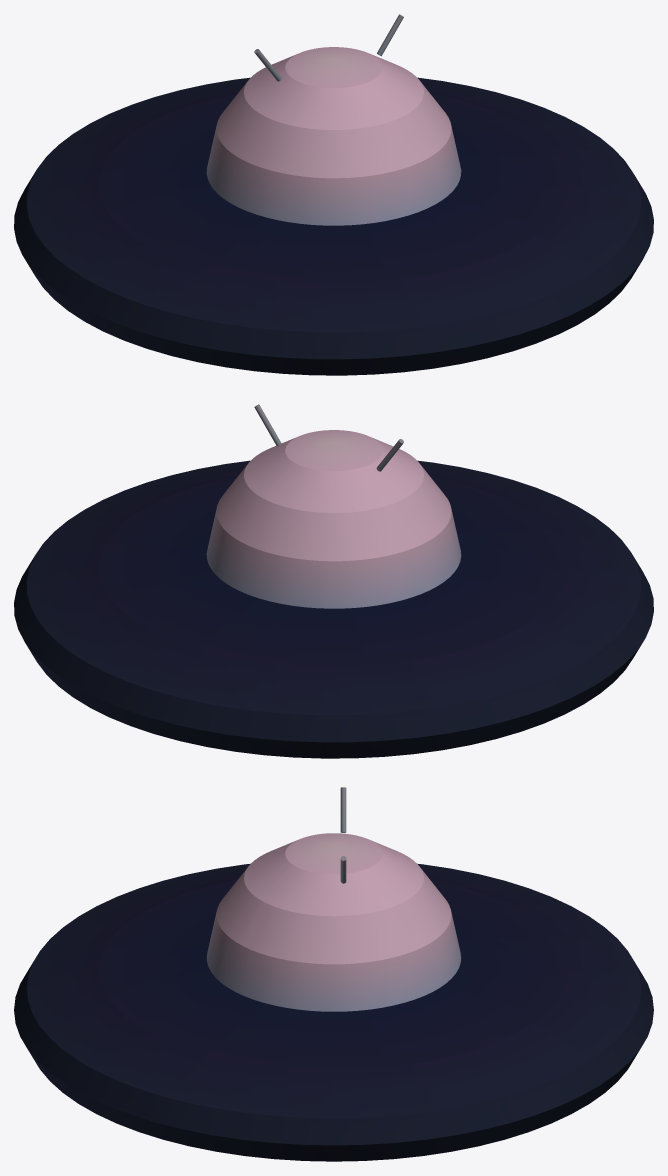
3 views of the same model, one above another, from view 1: azimuth 30°, elevation 25°; view 2: azimuth 150°, elevation 25°; view 3: azimuth 270°, elevation 25° (orthographic).
Parts seen in each view (by area): view 1: disc, dome; view 2: disc, dome; view 3: disc, dome.
Part boxes in pixels (x1,y1,x2,y2): disc: (14,77,653,375); dome: (206,47,461,225); disc: (14,460,653,758); dome: (206,430,461,608); disc: (14,863,653,1161); dome: (206,833,461,1011).
Bounding box in the file's own units: 12 × 4.73 × 12.
